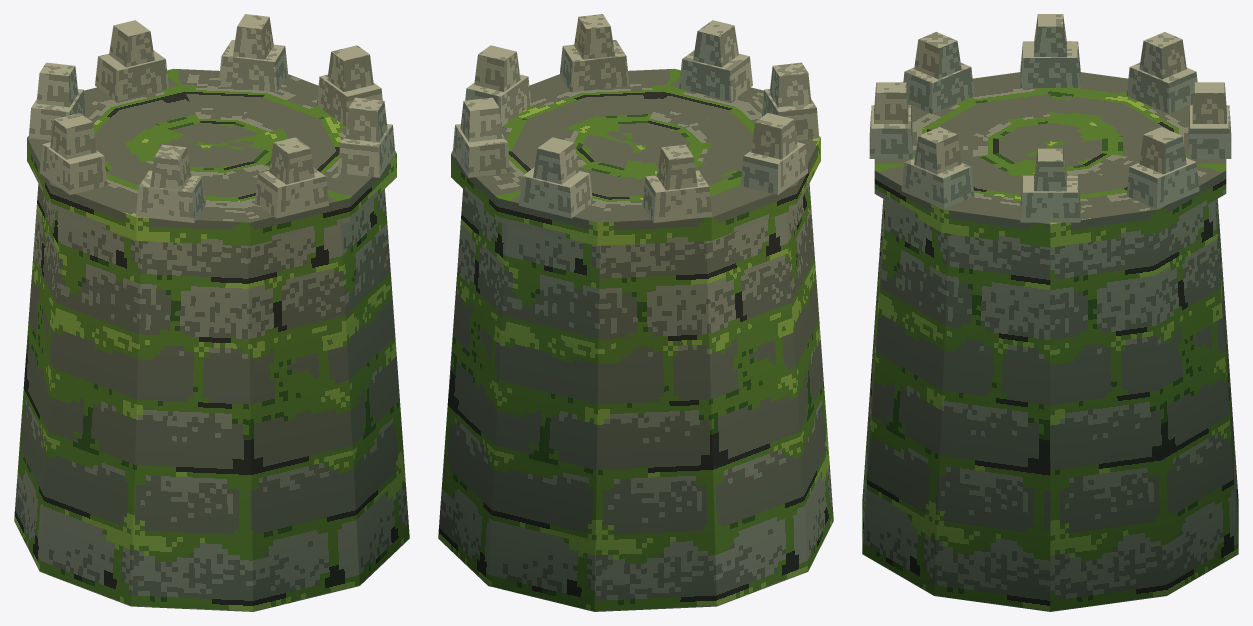
File: ruin.rampart__tower.glb
The picture shows the model from 3 angles, left to right: view 1: azimuth 30°, elevation 25°; view 2: azimuth 150°, elevation 25°; view 3: azimuth 270°, elevation 25°; orthographic projection.
Visible parts, largest first — view 1: kit_tower, kit_merlons; view 2: kit_tower, kit_merlons; view 3: kit_tower, kit_merlons.
Boxes of the visible parts, x1,y1,x2,y2 form: kit_tower: (14, 68, 409, 611); kit_merlons: (28, 14, 395, 222); kit_tower: (438, 68, 833, 611); kit_merlons: (452, 14, 819, 222); kit_tower: (862, 72, 1238, 611); kit_merlons: (869, 14, 1231, 222).
Bounding box in the file's own units: 4.6 × 5.65 × 4.37.
Materials: 2 (2 with a texture image).
